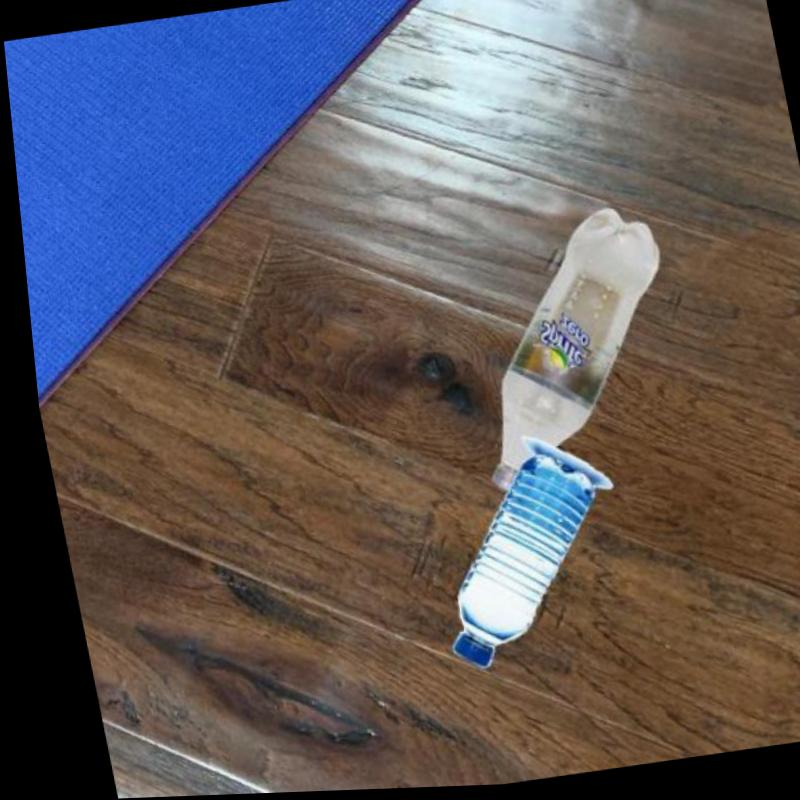botella: (430, 204, 698, 497), (400, 450, 617, 675)
